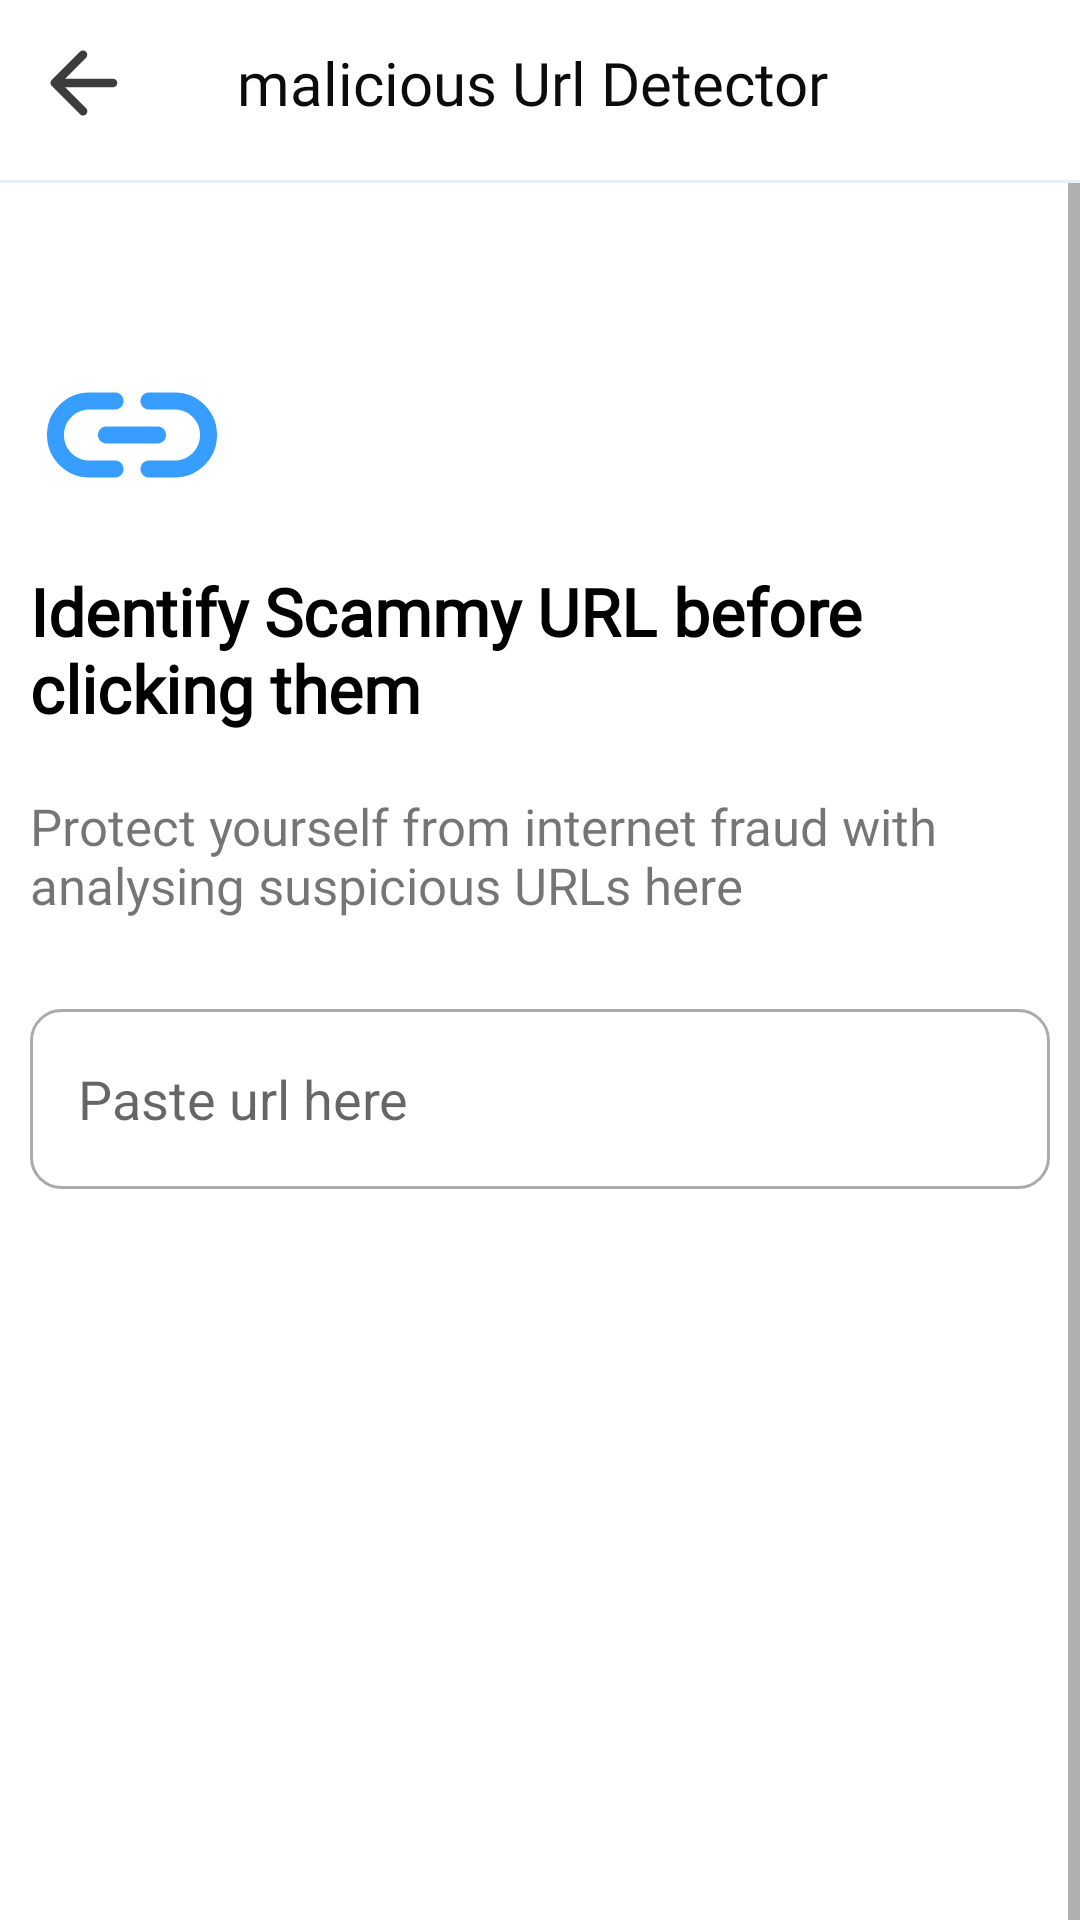

Where to tap for icons on this 1080 x 1920 app screen, as (x,y):
symbols link rounded: (132,435)
